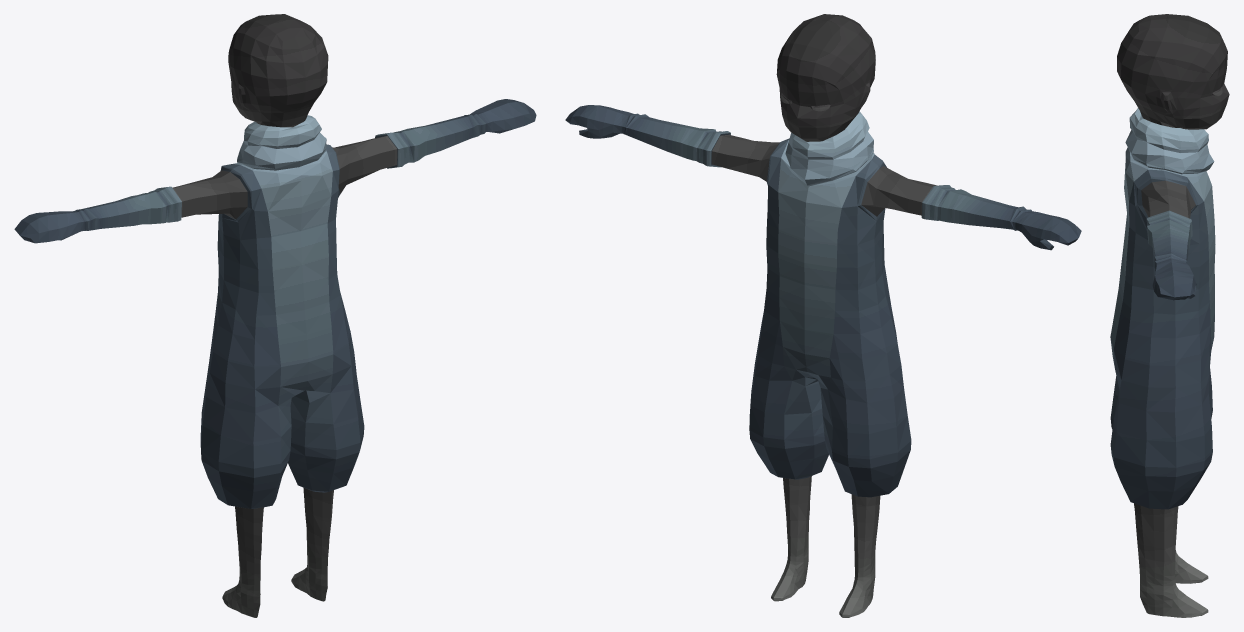
Rendered from CharSkyKid_Body_AP11Ancestor_01.glb.
3 renders of one model, left to right at view 1: azimuth 30°, elevation 25°; view 2: azimuth 150°, elevation 25°; view 3: azimuth 270°, elevation 25°, orthographic.
Parts seen in each view (by area): view 1: CharSkyKid_Body_AP11Ancestor_01; view 2: CharSkyKid_Body_AP11Ancestor_01; view 3: CharSkyKid_Body_AP11Ancestor_01.
Part boxes in pixels (x1,y1,x2,y2): CharSkyKid_Body_AP11Ancestor_01: [14, 14, 536, 617]; CharSkyKid_Body_AP11Ancestor_01: [565, 14, 1081, 617]; CharSkyKid_Body_AP11Ancestor_01: [1110, 14, 1229, 617].
Size of the model in its own units: 13.83 by 14.94 by 2.79.
1 material, 1 textured.
